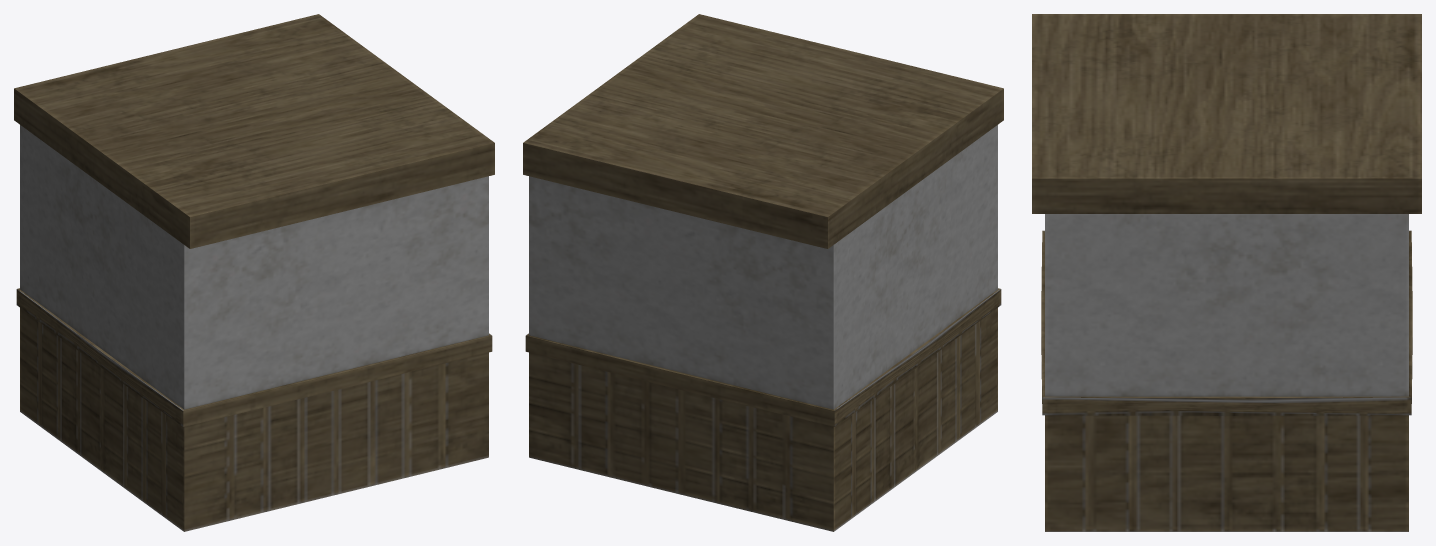
File: sb_obj_outdoor028_house02_wall02.fbx
3 renders of one model, left to right at view 1: azimuth 30°, elevation 25°; view 2: azimuth 150°, elevation 25°; view 3: azimuth 270°, elevation 25°, orthographic. The views are drawn at different scales.
Parts seen in each view (by area): view 1: sb_obj_outdoor028_house02_wall02; view 2: sb_obj_outdoor028_house02_wall02; view 3: sb_obj_outdoor028_house02_wall02.
Part boxes in pixels (x1=…): sb_obj_outdoor028_house02_wall02: x1=14, y1=14, x2=494, y2=531; sb_obj_outdoor028_house02_wall02: x1=523, y1=14, x2=1003, y2=531; sb_obj_outdoor028_house02_wall02: x1=1032, y1=14, x2=1421, y2=531.
Bounding box in the file's own units: 3.06 × 3 × 3.
1 material, 1 textured.
